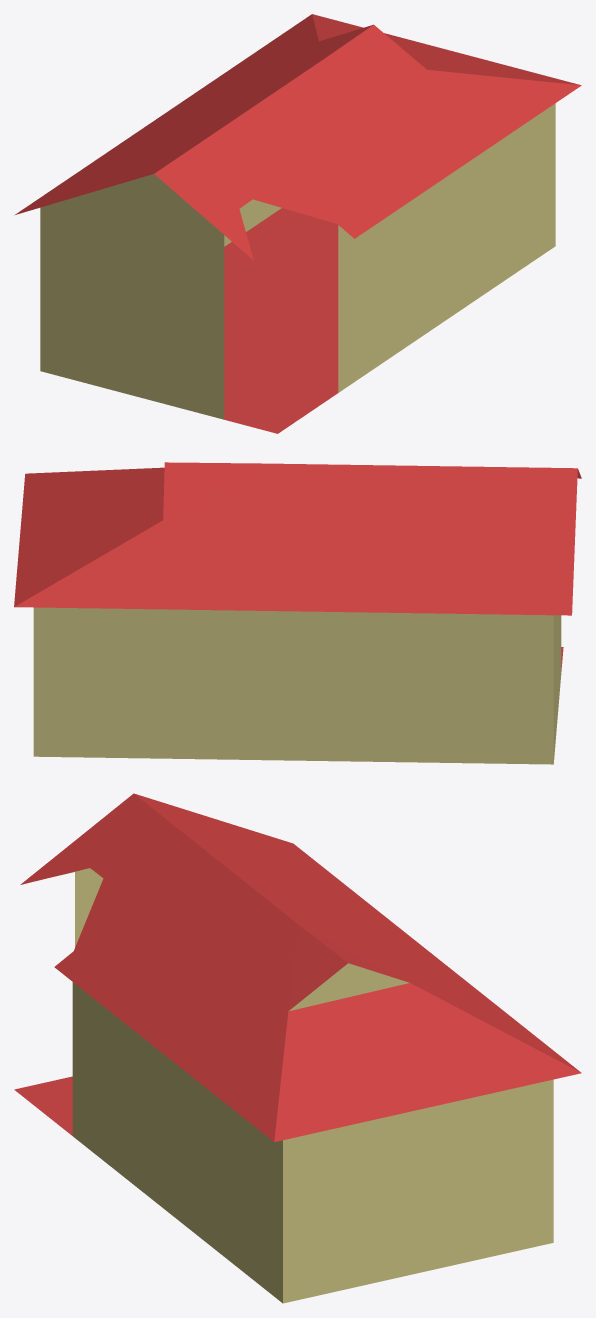
3 views of the same model, one above another, from view 1: azimuth 30°, elevation 25°; view 2: azimuth 150°, elevation 25°; view 3: azimuth 270°, elevation 25° (orthographic). The views are drawn at different scales.
Size of the model in its own units: 25.32 by 20.35 by 10.25.
